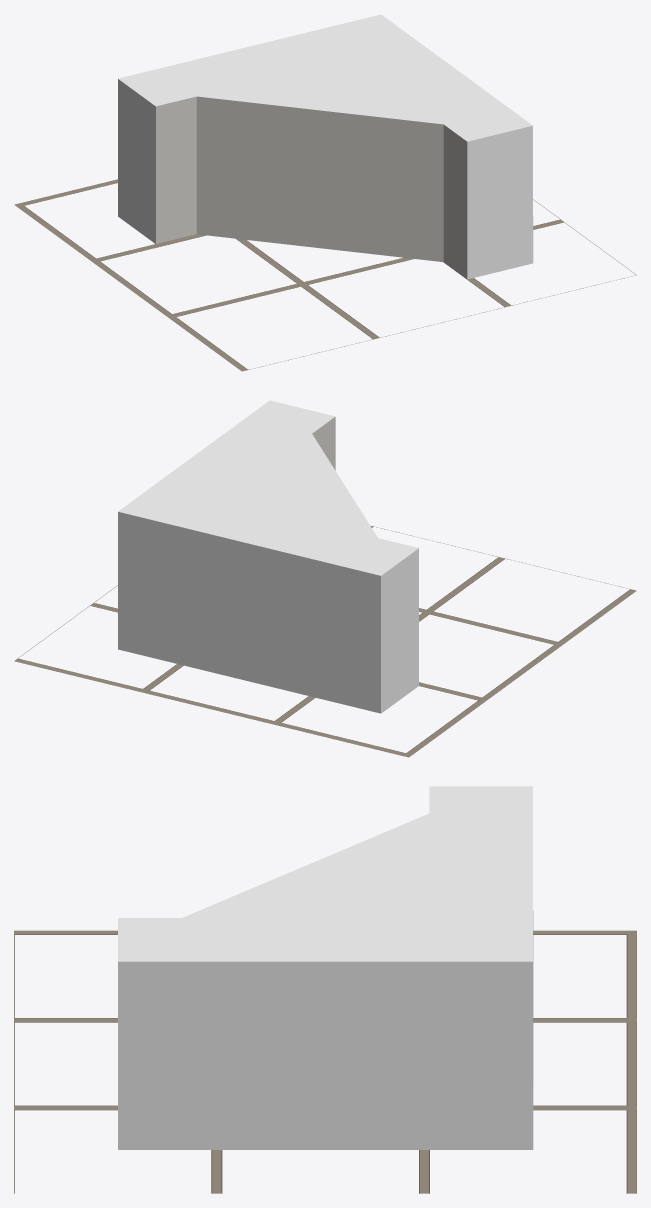
Rendered from Basic_Curve_Inner_2x2_Wide_Mid.glb.
3 renders of one model, top to bottom at view 1: azimuth 30°, elevation 25°; view 2: azimuth 150°, elevation 25°; view 3: azimuth 270°, elevation 25°, orthographic. The views are drawn at different scales.
Parts seen in each view (by area): view 1: Basic_Curve_Inner_2x2_Wide_Mid, Floor; view 2: Basic_Curve_Inner_2x2_Wide_Mid, Floor; view 3: Basic_Curve_Inner_2x2_Wide_Mid, Floor.
Part boxes in pixels (x1=…): Basic_Curve_Inner_2x2_Wide_Mid: x1=118, y1=14, x2=533, y2=279; Floor: x1=14, y1=179, x2=636, y2=371; Basic_Curve_Inner_2x2_Wide_Mid: x1=118, y1=400, x2=418, y2=713; Floor: x1=14, y1=525, x2=636, y2=757; Basic_Curve_Inner_2x2_Wide_Mid: x1=118, y1=786, x2=533, y2=1149; Floor: x1=14, y1=930, x2=636, y2=1193.
Size of the model in its own units: 300 by 100 by 300.
3 materials, 1 textured.
